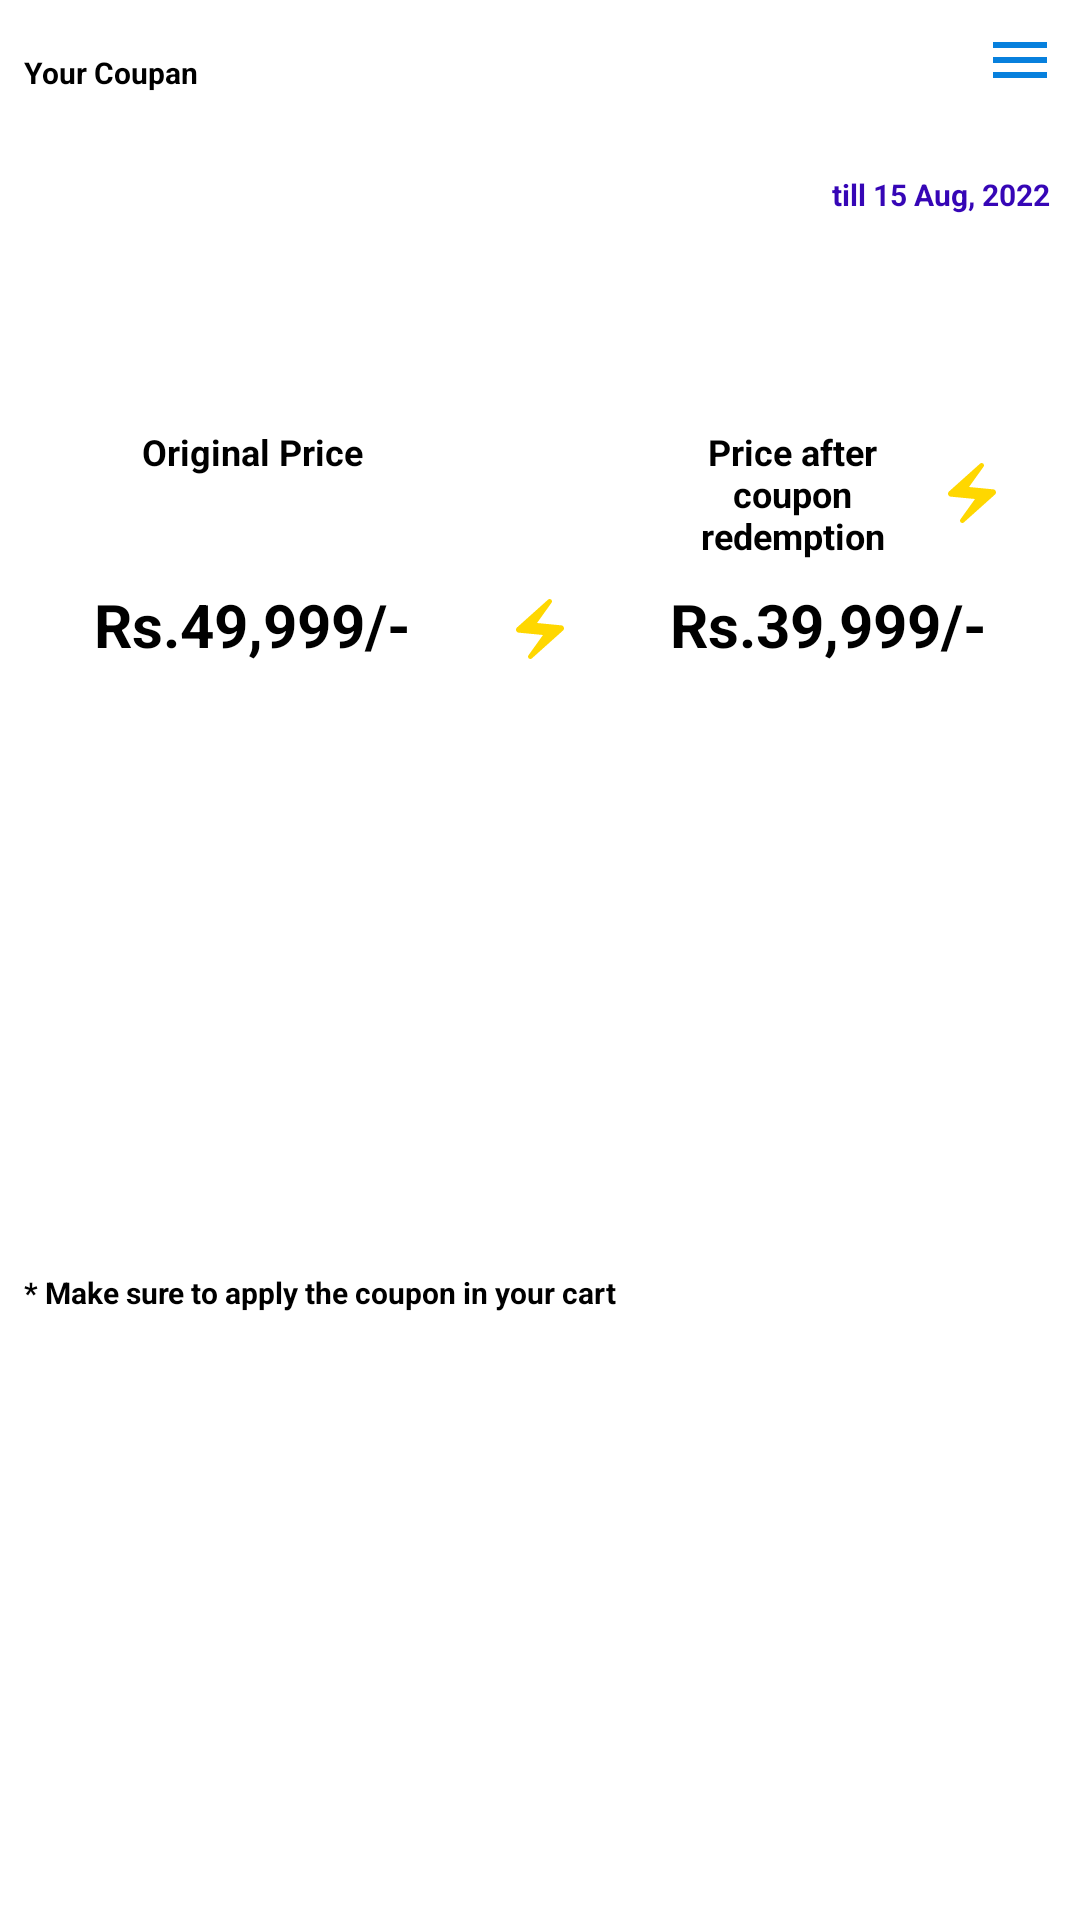

Where icons sit on this 1080 × 1920 app screen, as (x1, y1, x2, y2):
electric bolt: (516, 599, 564, 659)
menu: (993, 42, 1047, 78)
